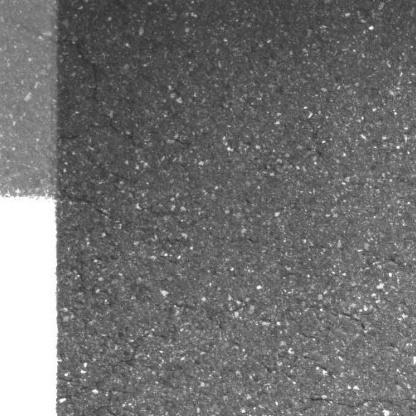Cracks: (306, 394, 382, 414), (299, 351, 340, 384), (380, 255, 416, 288), (339, 309, 371, 341), (297, 324, 335, 344)
